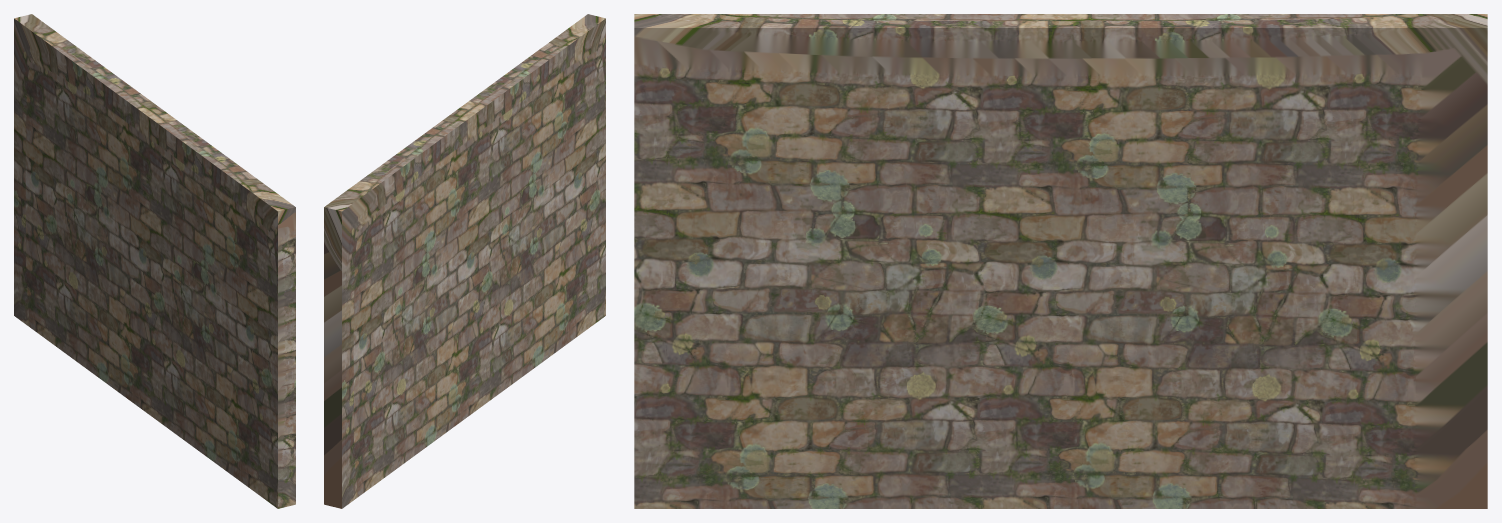
File: SM_Wall.FBX
3 renders of one model, left to right at view 1: azimuth 30°, elevation 25°; view 2: azimuth 150°, elevation 25°; view 3: azimuth 270°, elevation 25°, orthographic. The views are drawn at different scales.
Parts seen in each view (by area): view 1: SM_Wall; view 2: SM_Wall; view 3: SM_Wall.
Part boxes in pixels (x1=…): SM_Wall: x1=14, y1=14, x2=295, y2=508; SM_Wall: x1=324, y1=14, x2=605, y2=508; SM_Wall: x1=634, y1=14, x2=1487, y2=508.
Bounding box in the file's own units: 27.61 × 703 × 437.
1 material, 1 textured.
